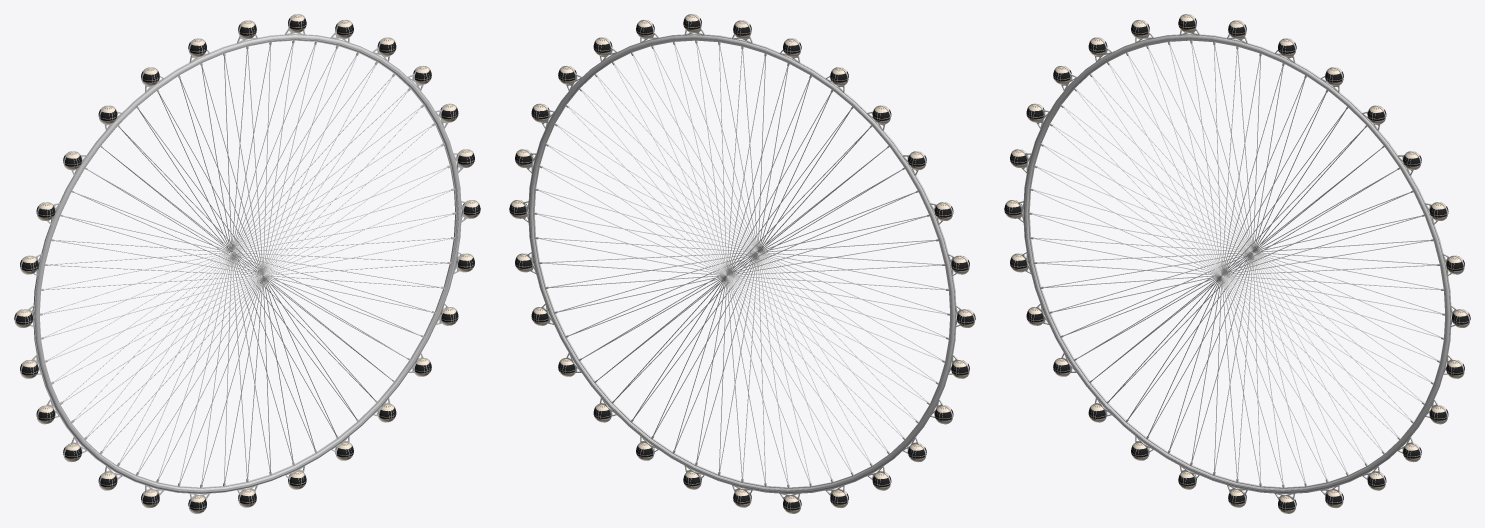
Rendered from wheel.obj.
3 renders of one model, left to right at view 1: azimuth 30°, elevation 25°; view 2: azimuth 150°, elevation 25°; view 3: azimuth 330°, elevation 25°, orthographic.
Parts seen in each view (by area): view 1: Nimbasa_City.001; view 2: Nimbasa_City.001; view 3: Nimbasa_City.001.
Boxes of the visible parts, x1=… form: Nimbasa_City.001: x1=14, y1=14, x2=480, y2=513; Nimbasa_City.001: x1=509, y1=14, x2=975, y2=513; Nimbasa_City.001: x1=1004, y1=14, x2=1470, y2=513.
Bounding box in the file's own units: 13.88 × 13.88 × 1.65.
